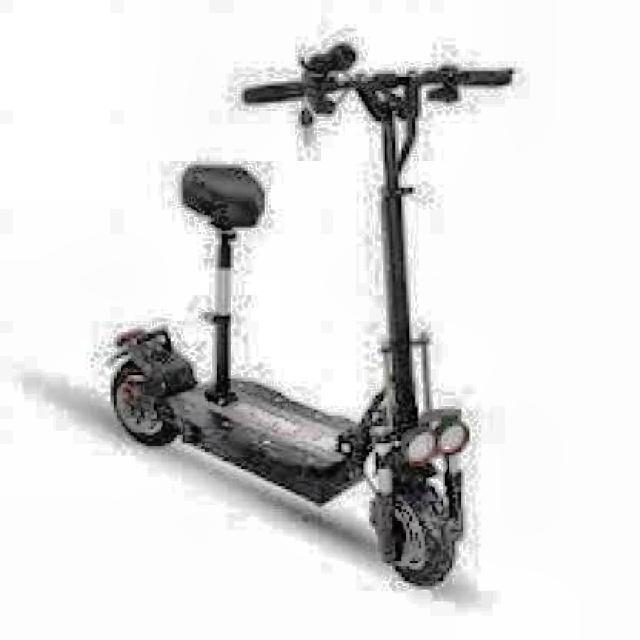bike: (108, 325, 196, 447)
